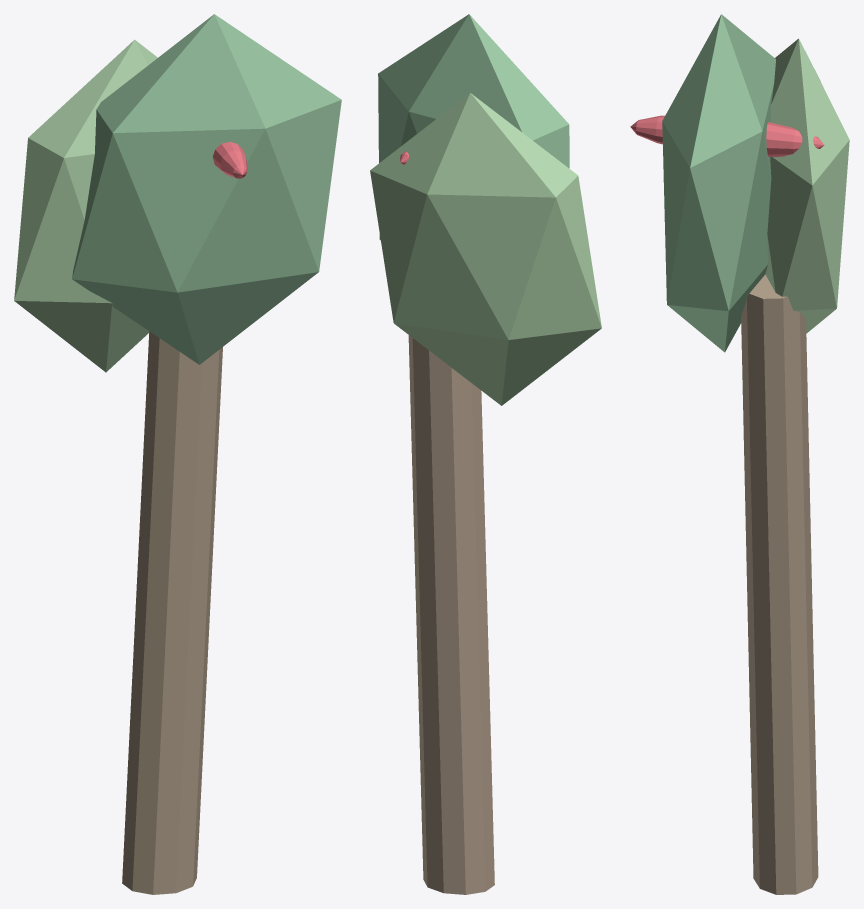
File: TREE_BOTTLEBRUSH_001_LOD_MAP.glb
The picture shows the model from 3 angles, left to right: view 1: azimuth 30°, elevation 25°; view 2: azimuth 150°, elevation 25°; view 3: azimuth 270°, elevation 25°; orthographic projection. The views are drawn at different scales.
Parts seen in each view (by area): view 1: TREE_BOTTLEBRUSH_001_LEAF_CLUSTER_MAIN_003_LOD_MAP, TREE_BOTTLEBRUSH_001_TRUNK_MAIN_001_LOD_MAP, TREE_BOTTLEBRUSH_001_LEAF_CLUSTER_MAIN_001_LOD_MAP, TREE_BOTTLEBRUSH_001_FLOWER_CLUSTER_MAIN_003_LOD_MAP; view 2: TREE_BOTTLEBRUSH_001_LEAF_CLUSTER_MAIN_001_LOD_MAP, TREE_BOTTLEBRUSH_001_TRUNK_MAIN_001_LOD_MAP, TREE_BOTTLEBRUSH_001_LEAF_CLUSTER_MAIN_003_LOD_MAP; view 3: TREE_BOTTLEBRUSH_001_TRUNK_MAIN_001_LOD_MAP, TREE_BOTTLEBRUSH_001_LEAF_CLUSTER_MAIN_003_LOD_MAP, TREE_BOTTLEBRUSH_001_LEAF_CLUSTER_MAIN_001_LOD_MAP, TREE_BOTTLEBRUSH_001_FLOWER_CLUSTER_MAIN_003_LOD_MAP.
Part boxes in pixels (x1=…): TREE_BOTTLEBRUSH_001_LEAF_CLUSTER_MAIN_003_LOD_MAP: x1=72, y1=14, x2=341, y2=364; TREE_BOTTLEBRUSH_001_TRUNK_MAIN_001_LOD_MAP: x1=122, y1=331, x2=222, y2=894; TREE_BOTTLEBRUSH_001_LEAF_CLUSTER_MAIN_001_LOD_MAP: x1=14, y1=39, x2=157, y2=372; TREE_BOTTLEBRUSH_001_FLOWER_CLUSTER_MAIN_003_LOD_MAP: x1=213, y1=142, x2=247, y2=178; TREE_BOTTLEBRUSH_001_LEAF_CLUSTER_MAIN_001_LOD_MAP: x1=370, y1=93, x2=601, y2=405; TREE_BOTTLEBRUSH_001_TRUNK_MAIN_001_LOD_MAP: x1=408, y1=335, x2=494, y2=894; TREE_BOTTLEBRUSH_001_LEAF_CLUSTER_MAIN_003_LOD_MAP: x1=378, y1=14, x2=569, y2=240; TREE_BOTTLEBRUSH_001_TRUNK_MAIN_001_LOD_MAP: x1=741, y1=274, x2=818, y2=894; TREE_BOTTLEBRUSH_001_LEAF_CLUSTER_MAIN_003_LOD_MAP: x1=662, y1=14, x2=775, y2=352; TREE_BOTTLEBRUSH_001_LEAF_CLUSTER_MAIN_001_LOD_MAP: x1=765, y1=38, x2=849, y2=333; TREE_BOTTLEBRUSH_001_FLOWER_CLUSTER_MAIN_003_LOD_MAP: x1=630, y1=115, x2=824, y2=157.
Bounding box in the file's own units: 1.48 × 4.47 × 1.01.
